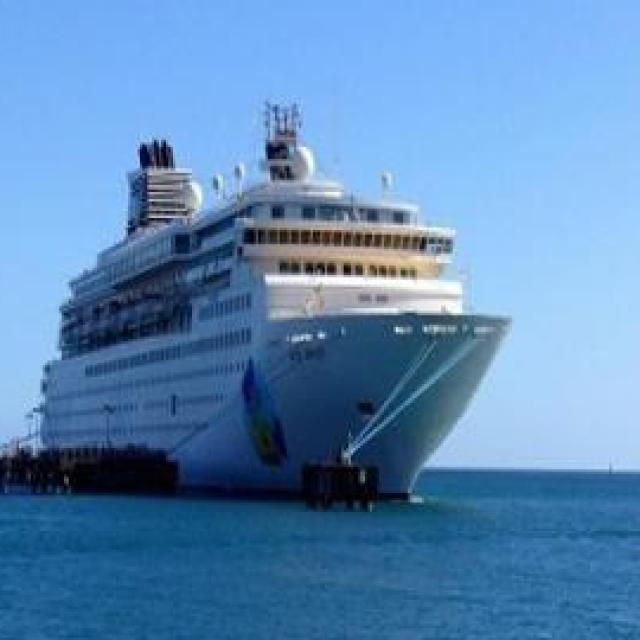passenger ship: (33, 111, 509, 492)
